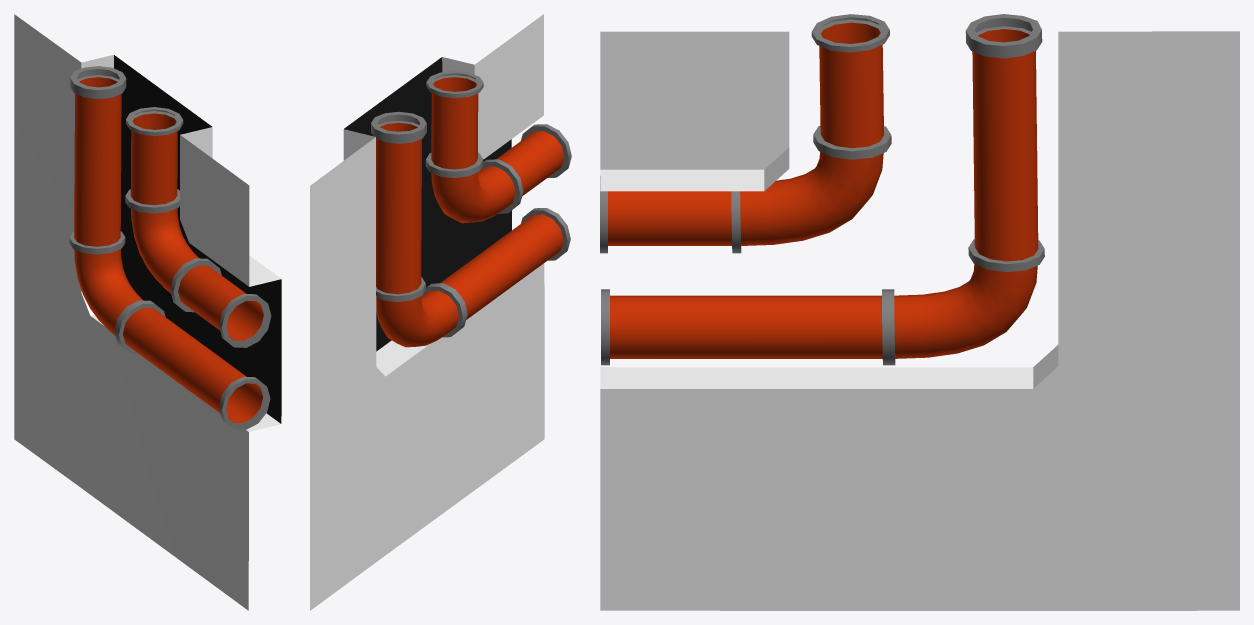
Rendered from S_assete_basement_wall_midel_7.fbx.
The picture shows the model from 3 angles, left to right: view 1: azimuth 30°, elevation 25°; view 2: azimuth 150°, elevation 25°; view 3: azimuth 270°, elevation 25°; orthographic projection. The views are drawn at different scales.
Parts seen in each view (by area): view 1: S_assete_basement_wall_008; view 2: S_assete_basement_wall_008; view 3: S_assete_basement_wall_008.
Part boxes in pixels (x1,y1,x2,y2): S_assete_basement_wall_008: [14, 14, 281, 610]; S_assete_basement_wall_008: [310, 14, 571, 610]; S_assete_basement_wall_008: [600, 14, 1239, 610].
Bounding box in the file's own units: 29.69 × 200 × 200.
